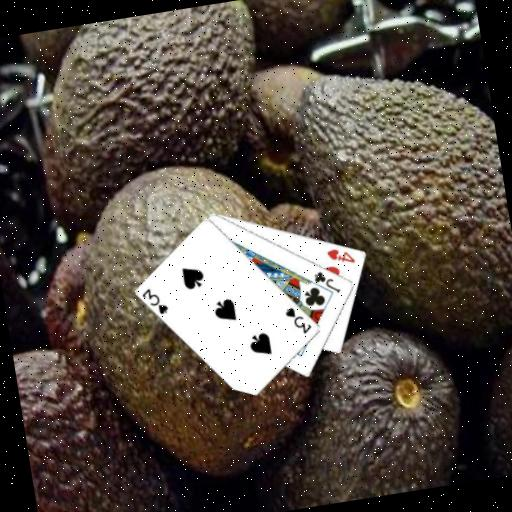3S: (281, 301, 314, 338), (138, 282, 171, 319)
4H: (323, 242, 358, 268)
JC: (309, 265, 342, 298)
